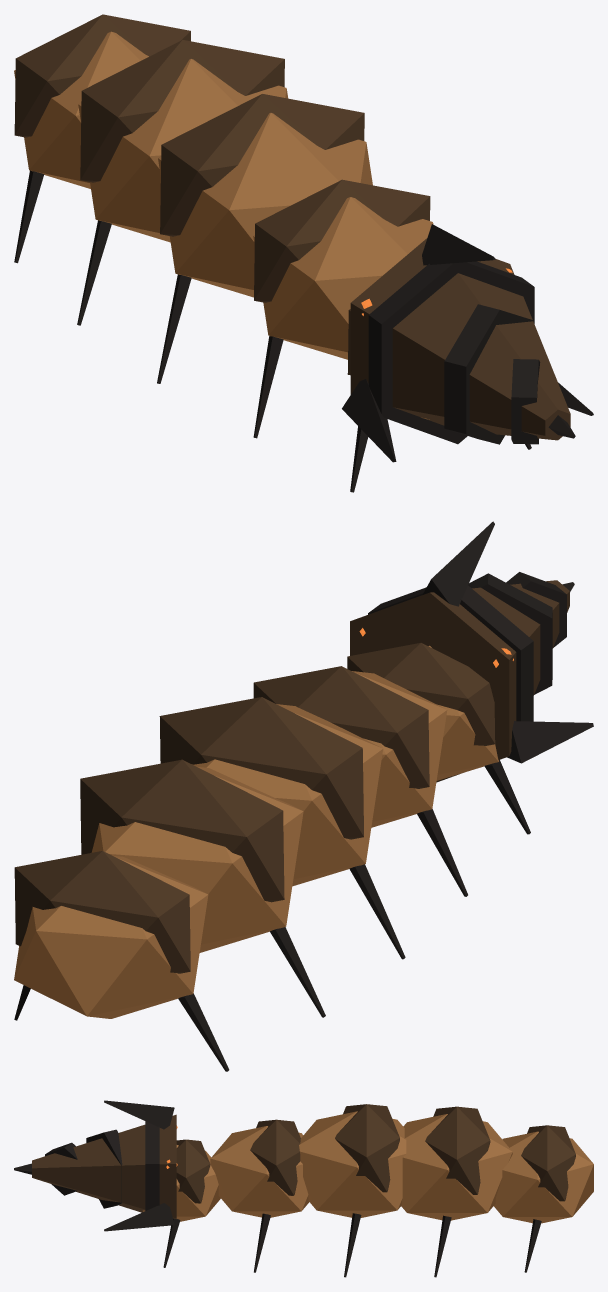
Rendered from exo-burrower.glb.
3 renders of one model, top to bottom at view 1: azimuth 30°, elevation 25°; view 2: azimuth 150°, elevation 25°; view 3: azimuth 270°, elevation 25°, orthographic. The views are drawn at different scales.
Parts seen in each view (by area): view 1: body; view 2: body; view 3: body.
Part boxes in pixels (x1,y1,x2,y2): body: (14, 14, 593, 492); body: (14, 521, 593, 1071); body: (14, 1100, 593, 1277).
Size of the model in its own units: 1.35 by 1.31 by 4.82.
